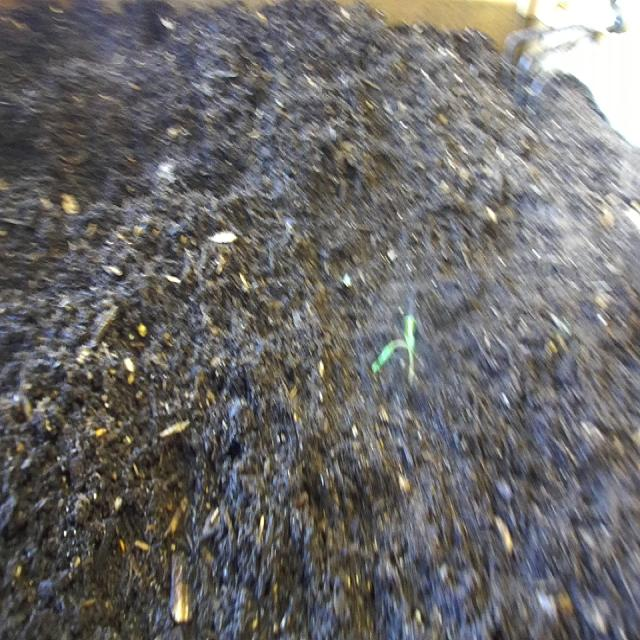Healthy: (366, 298, 432, 418)
